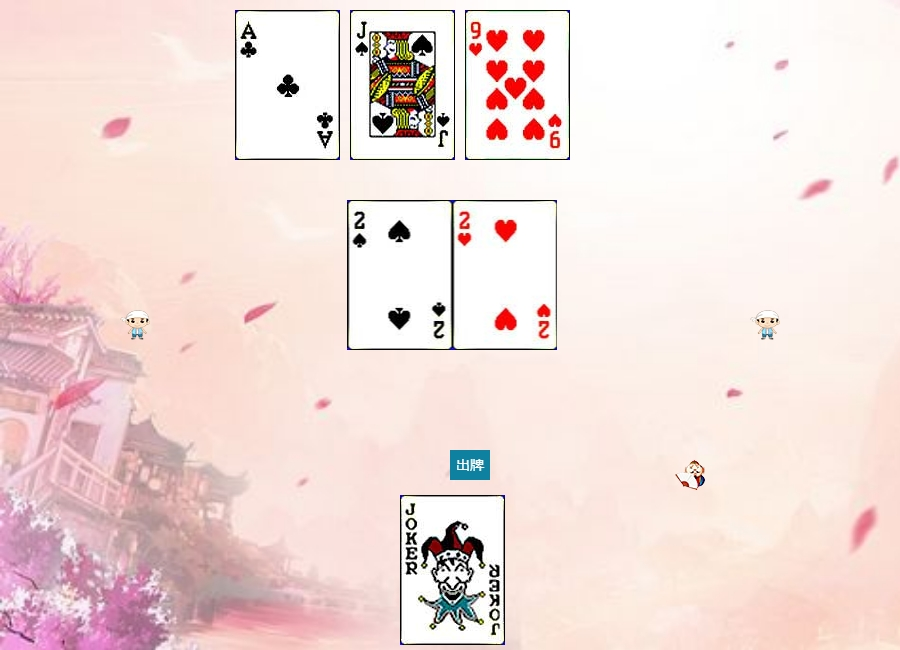11~4: (350, 10, 455, 160)
14~2: (235, 10, 340, 160)
15~3: (453, 200, 558, 350)
15~4: (348, 200, 453, 350)
17~3: (400, 495, 505, 645)
9~3: (465, 10, 570, 160)
